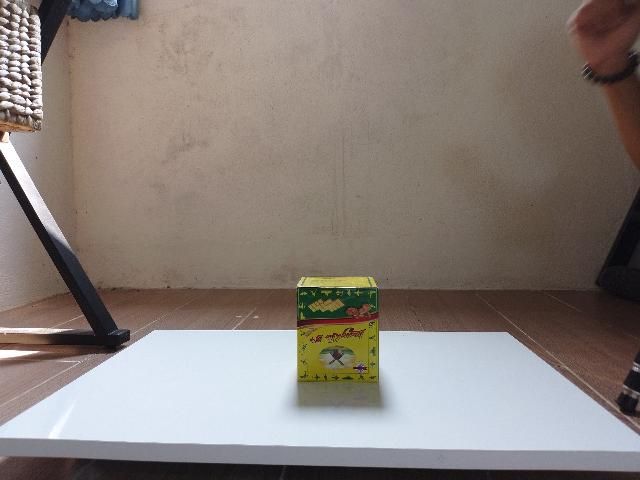luong_kho: (296, 277, 384, 410)
